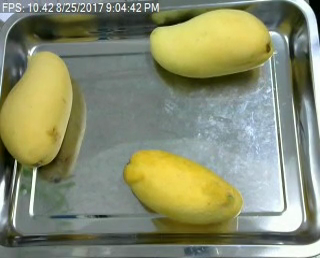Mango: (121, 146, 244, 224), (150, 6, 274, 80), (0, 48, 74, 170)
